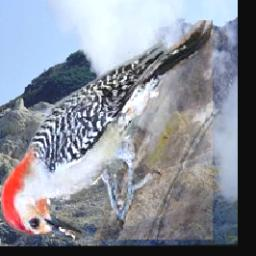Woodpecker: (1, 21, 213, 241)
